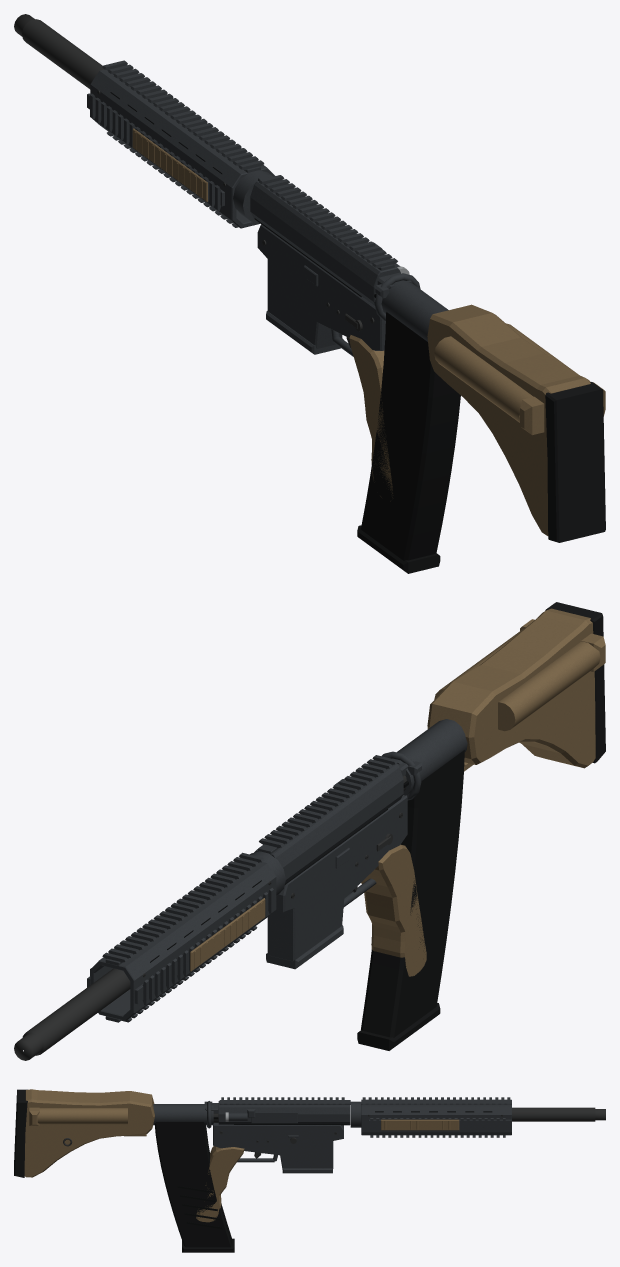
Rendered from weapon-15-CMfyDPbG.glb.
3 views of the same model, one above another, from view 1: azimuth 30°, elevation 25°; view 2: azimuth 150°, elevation 25°; view 3: azimuth 270°, elevation 25° (orthographic). The views are drawn at different scales.
Visible parts, largest first — view 1: salient_weapon_body, salient_weapon_magazine; view 2: salient_weapon_body, salient_weapon_magazine; view 3: salient_weapon_body, salient_weapon_magazine.
Part boxes in pixels (box(x1,y1,x2,y2)): salient_weapon_body: box(14, 14, 605, 542); salient_weapon_magazine: box(357, 312, 460, 573); salient_weapon_body: box(14, 602, 605, 1060); salient_weapon_magazine: box(357, 750, 464, 1050); salient_weapon_body: box(14, 1089, 605, 1222); salient_weapon_magazine: box(154, 1122, 234, 1252).
Bounding box in the file's own units: 0.066 × 0.2264 × 0.7862.
Materials: 12 (3 with a texture image).
